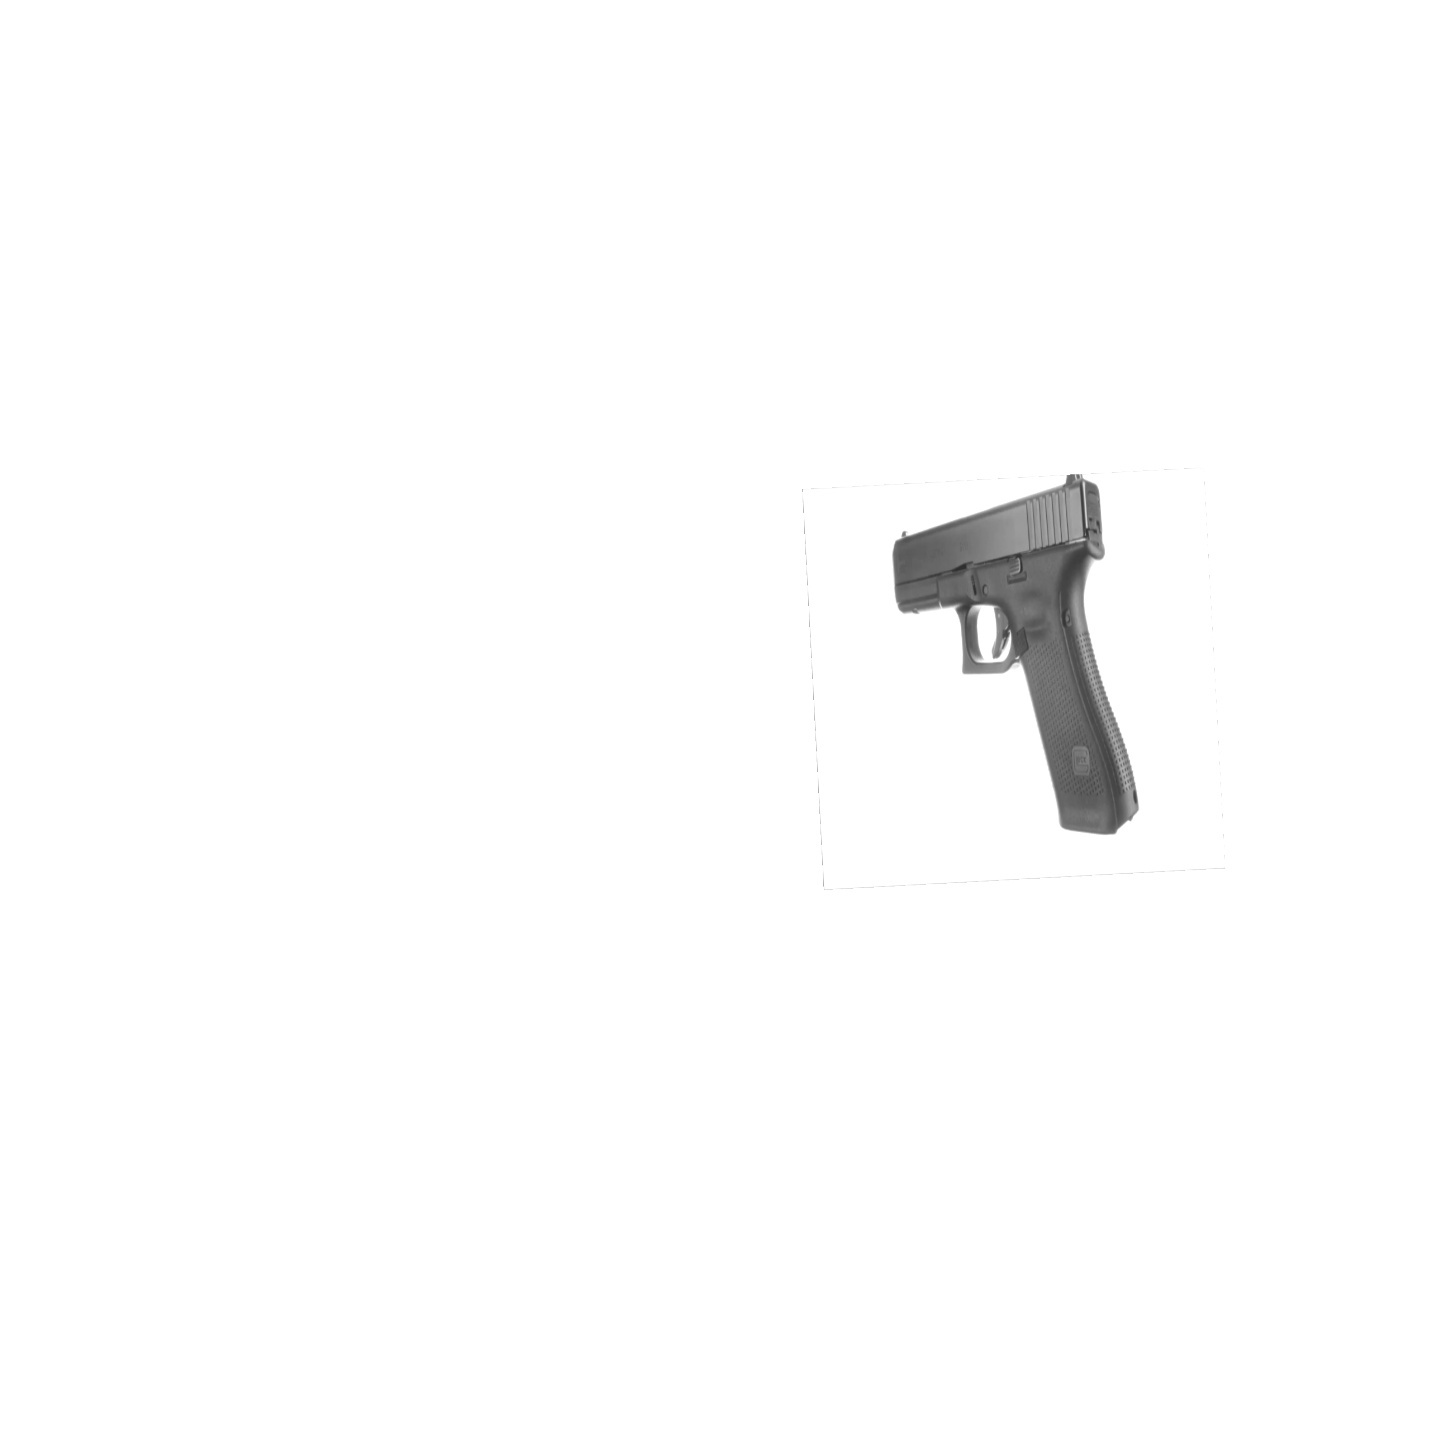gun: (892, 479, 1140, 834)
